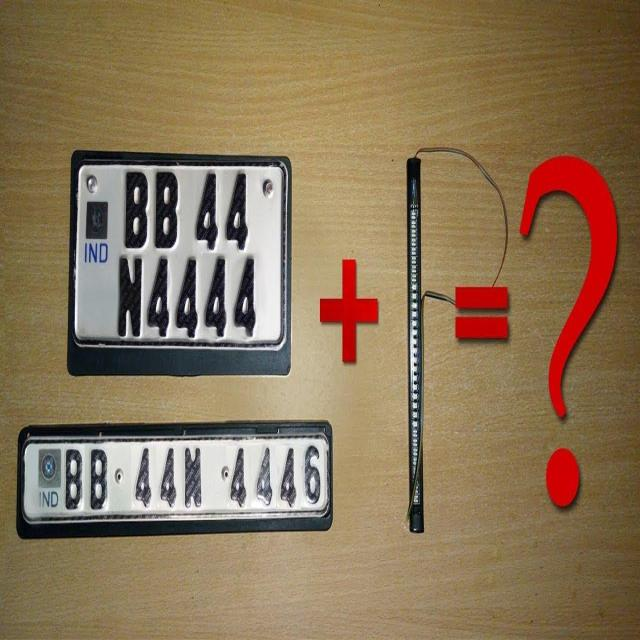4: (143, 252, 174, 338), (233, 256, 259, 339), (176, 258, 202, 338), (204, 256, 229, 338), (225, 173, 249, 251), (196, 176, 220, 251), (132, 446, 156, 510), (253, 443, 276, 509), (229, 444, 251, 506), (158, 447, 180, 509), (281, 446, 299, 509)
6: (302, 440, 324, 506)
b: (122, 172, 151, 252), (153, 172, 180, 255), (89, 445, 109, 512), (64, 449, 83, 509)
n: (116, 256, 142, 336), (184, 445, 204, 510)
